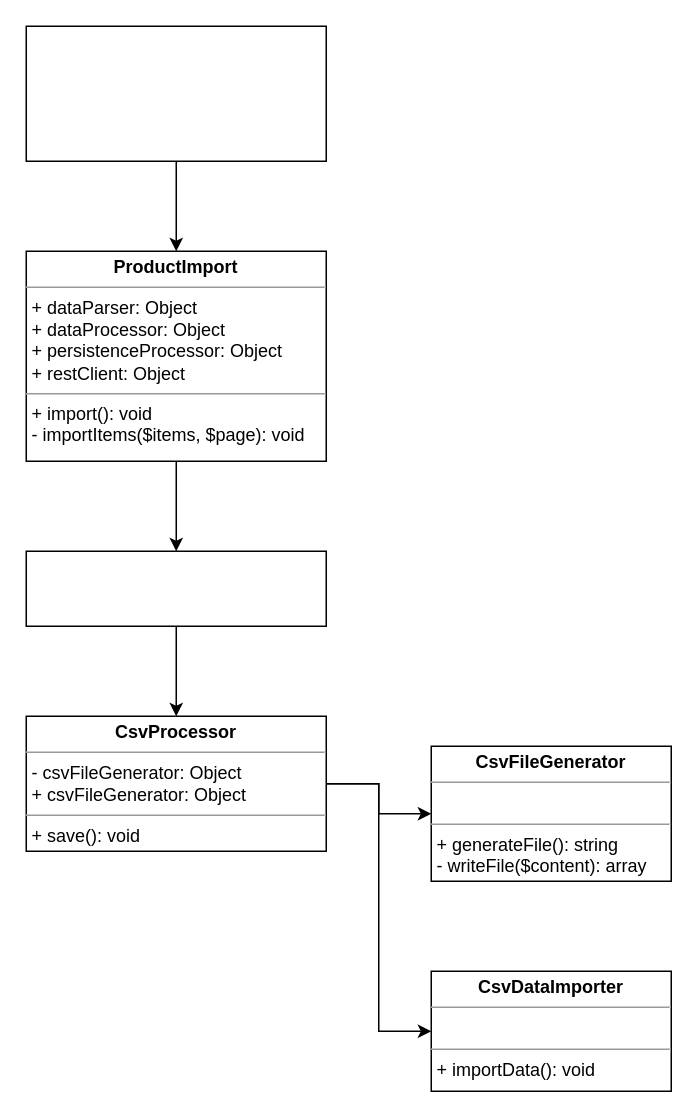
Some shapes in this 698 by 1118 pixel diagram are drawn without their labels. The box of each missing label's shape, as (x1, y1, x2, y2) in pixels:
ImportProducts (CLI) + execute(): void: (25, 25, 326, 161)
PersistenceProcessorInterface + save(): void: (25, 550, 326, 626)
